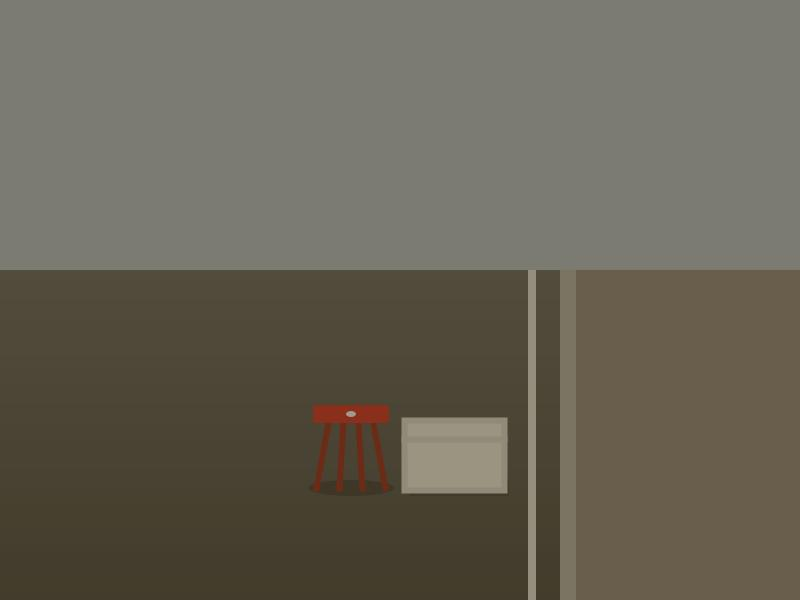ROAD_OBSTACLE: (404, 420, 504, 490), (313, 405, 389, 488)
